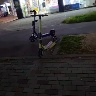beam: (27, 8, 57, 43)
gcooter: (28, 13, 61, 58)
